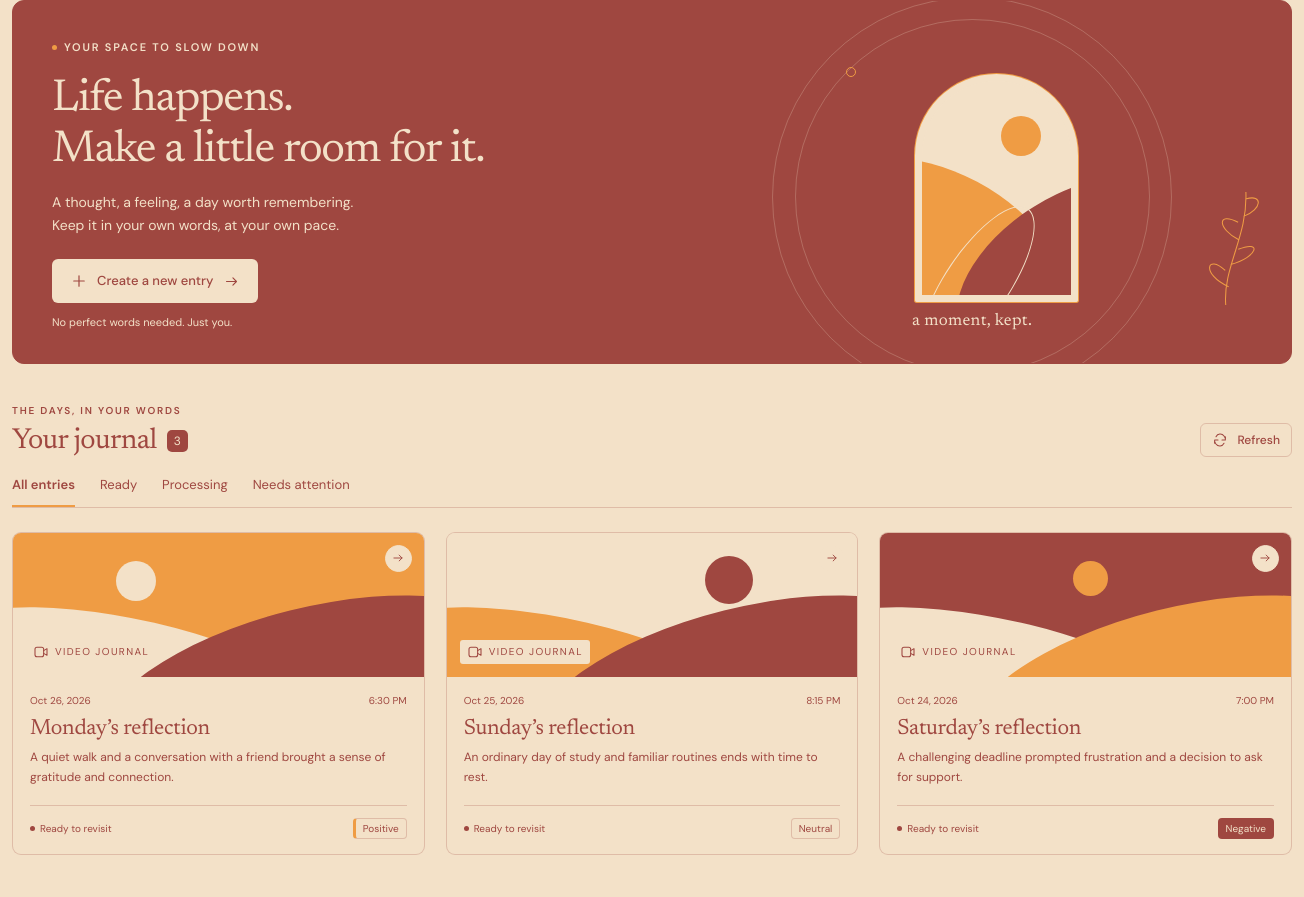
journal screens › filters entries without inventing API fields
The image size is (1304, 897).
Expected: the heading "Monday’s reflection" is shown, top-left (30, 718), bottom-right (210, 740)
Click the button "Needs attention" at point(301, 491), box top-left (253, 476), bottom-right (350, 507)
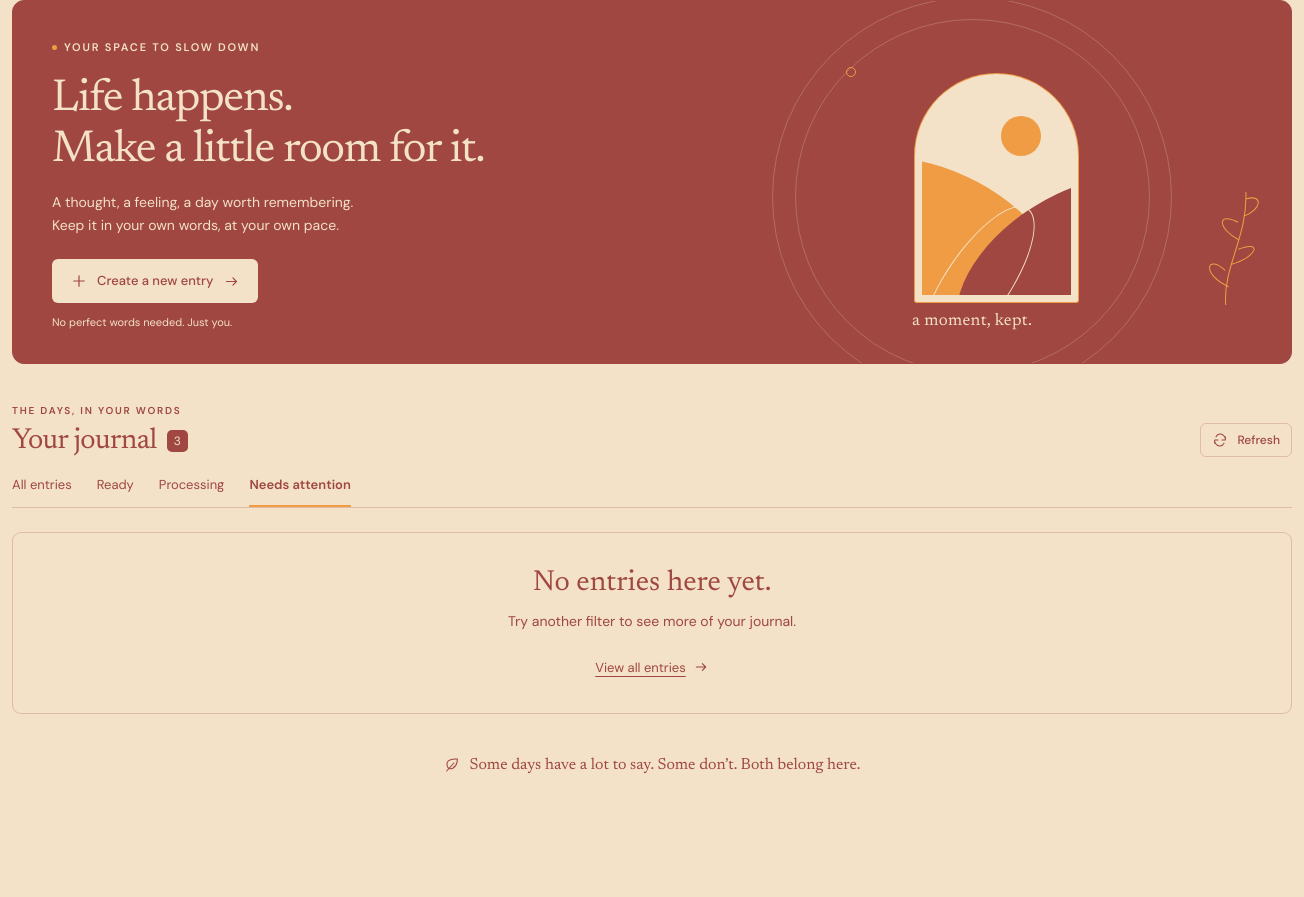
Expected: the heading "No entries here yet." is shown, top-left (533, 569), bottom-right (771, 598)
Click the button "View all entries" at point(652, 668), box top-left (595, 659), bottom-right (709, 676)
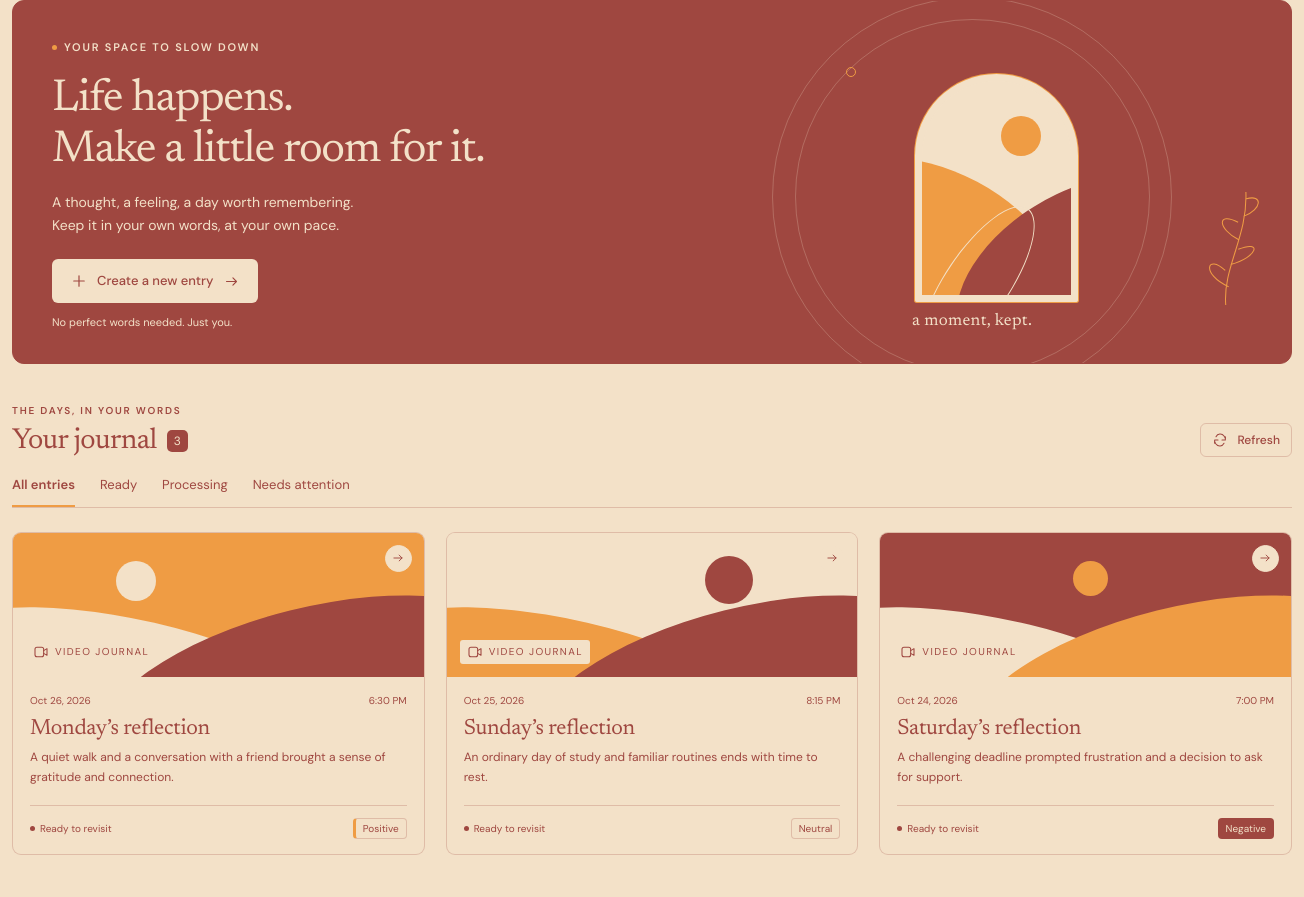
Expected: the heading "Monday’s reflection" is shown, top-left (30, 718), bottom-right (210, 740)
